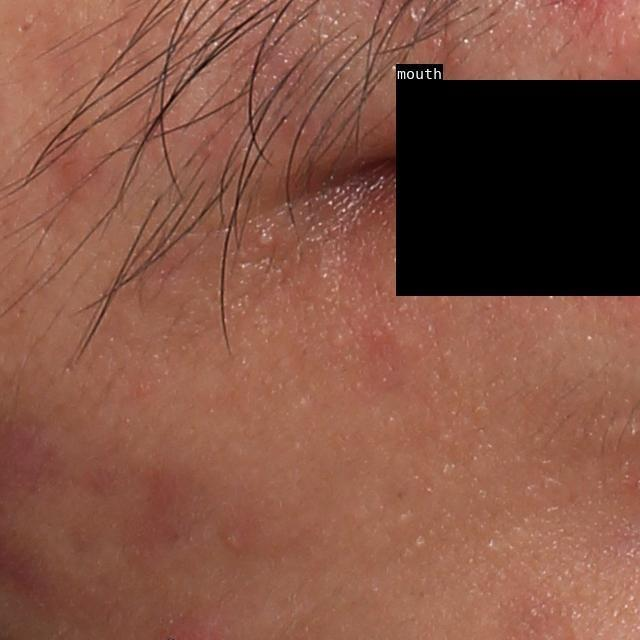pustule: (245, 217, 284, 262)
